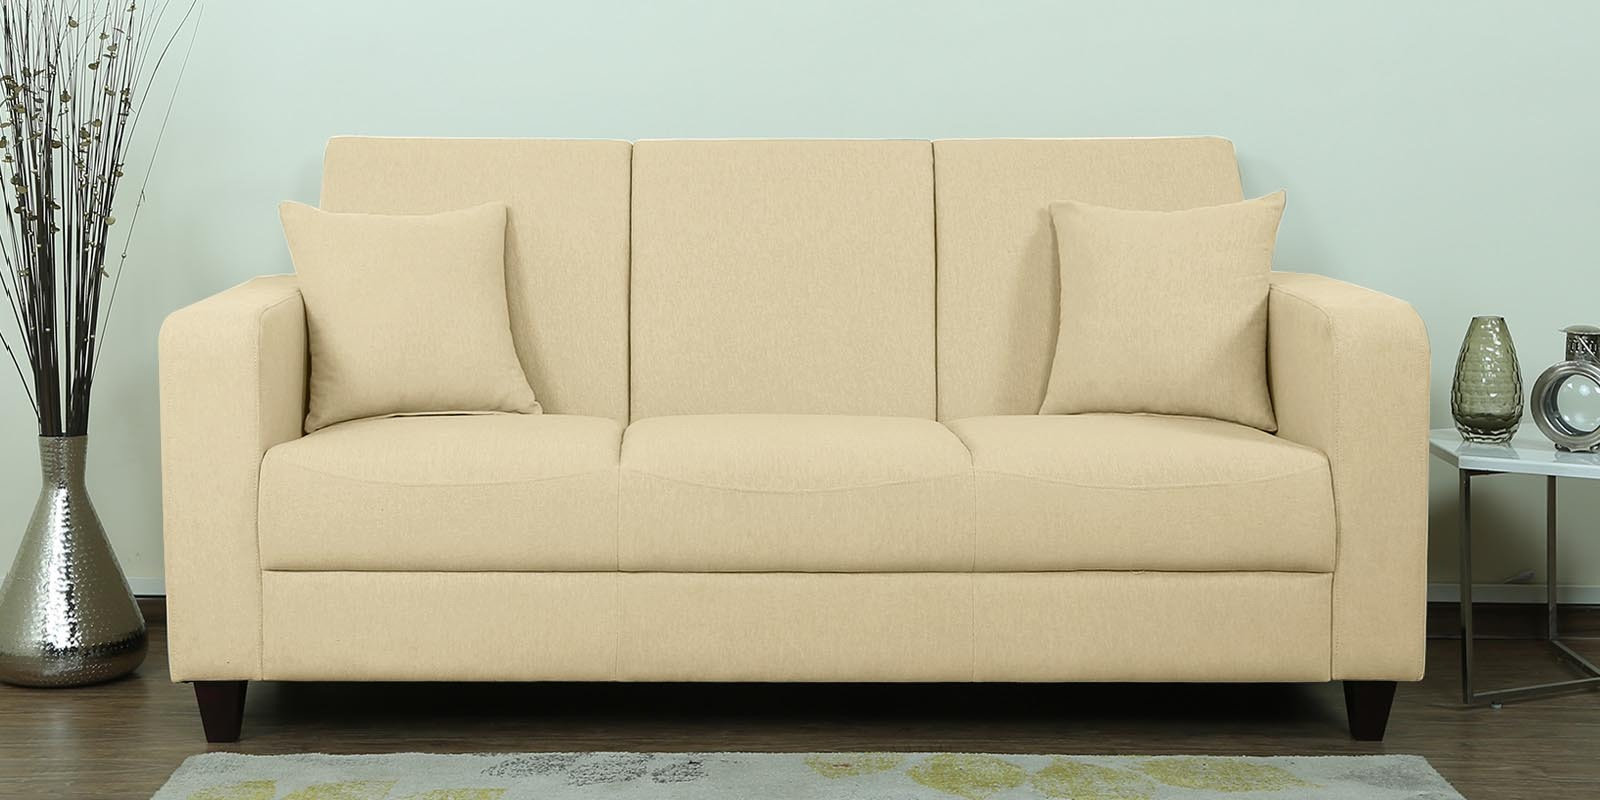Alba Three Seater Sofa in Beige Colour by CasaCraft: (154, 131, 1435, 750)
